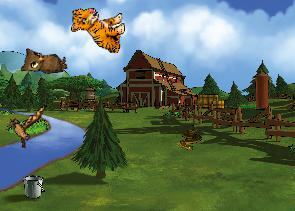eagle: (4, 99, 47, 151)
owl: (18, 43, 68, 76)
tiger: (70, 6, 126, 53)
